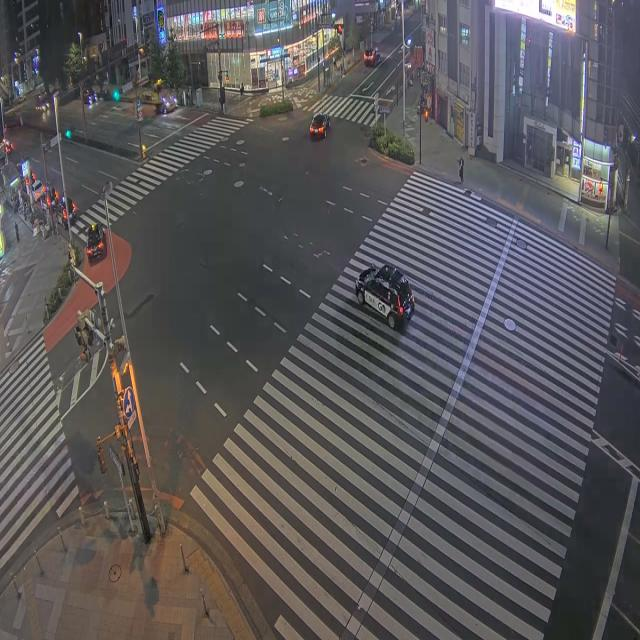car: (356, 265, 414, 328), (86, 224, 105, 260), (310, 113, 330, 138), (158, 96, 177, 114), (55, 203, 68, 228), (364, 48, 380, 67), (32, 180, 45, 201), (83, 89, 97, 106), (36, 95, 50, 111), (2, 139, 14, 155)
